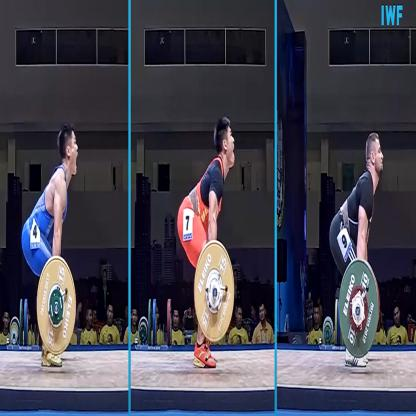Barbell: (335, 254, 382, 364), (194, 237, 238, 346), (34, 252, 78, 360)
